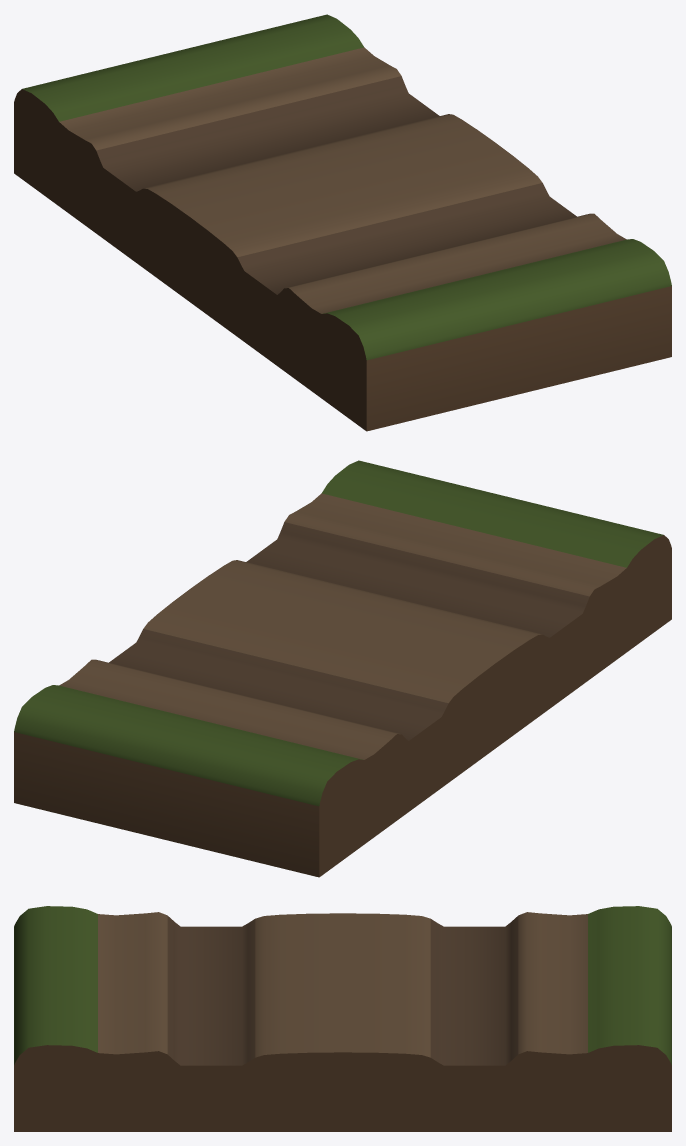
3 views of the same model, one above another, from view 1: azimuth 30°, elevation 25°; view 2: azimuth 150°, elevation 25°; view 3: azimuth 270°, elevation 25° (orthographic). The views are drawn at different scales.
Visible parts, largest first — view 1: r2o; view 2: r2o; view 3: r2o.
Boxes of the visible parts, box(x1,y1,x2,y2) form: r2o: box(14, 14, 671, 431); r2o: box(14, 460, 671, 877); r2o: box(14, 906, 671, 1131).
Size of the model in its own units: 4.5 by 1.31 by 9.
